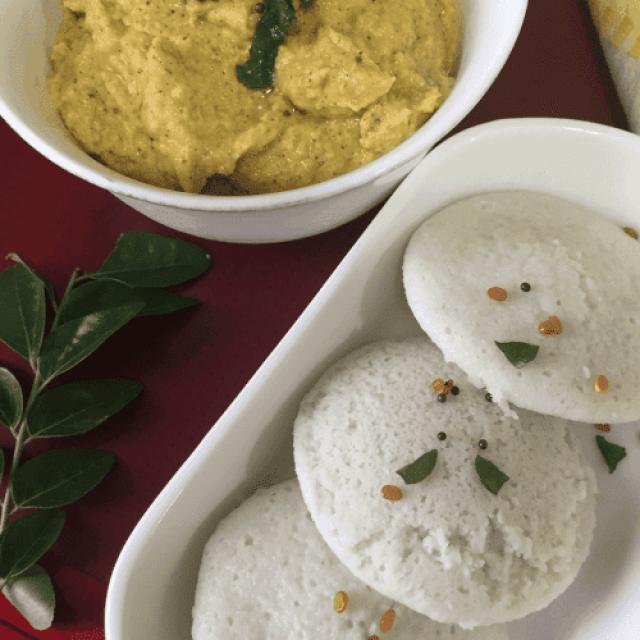IDLI: (294, 340, 596, 627), (403, 192, 639, 421), (192, 479, 504, 639)
